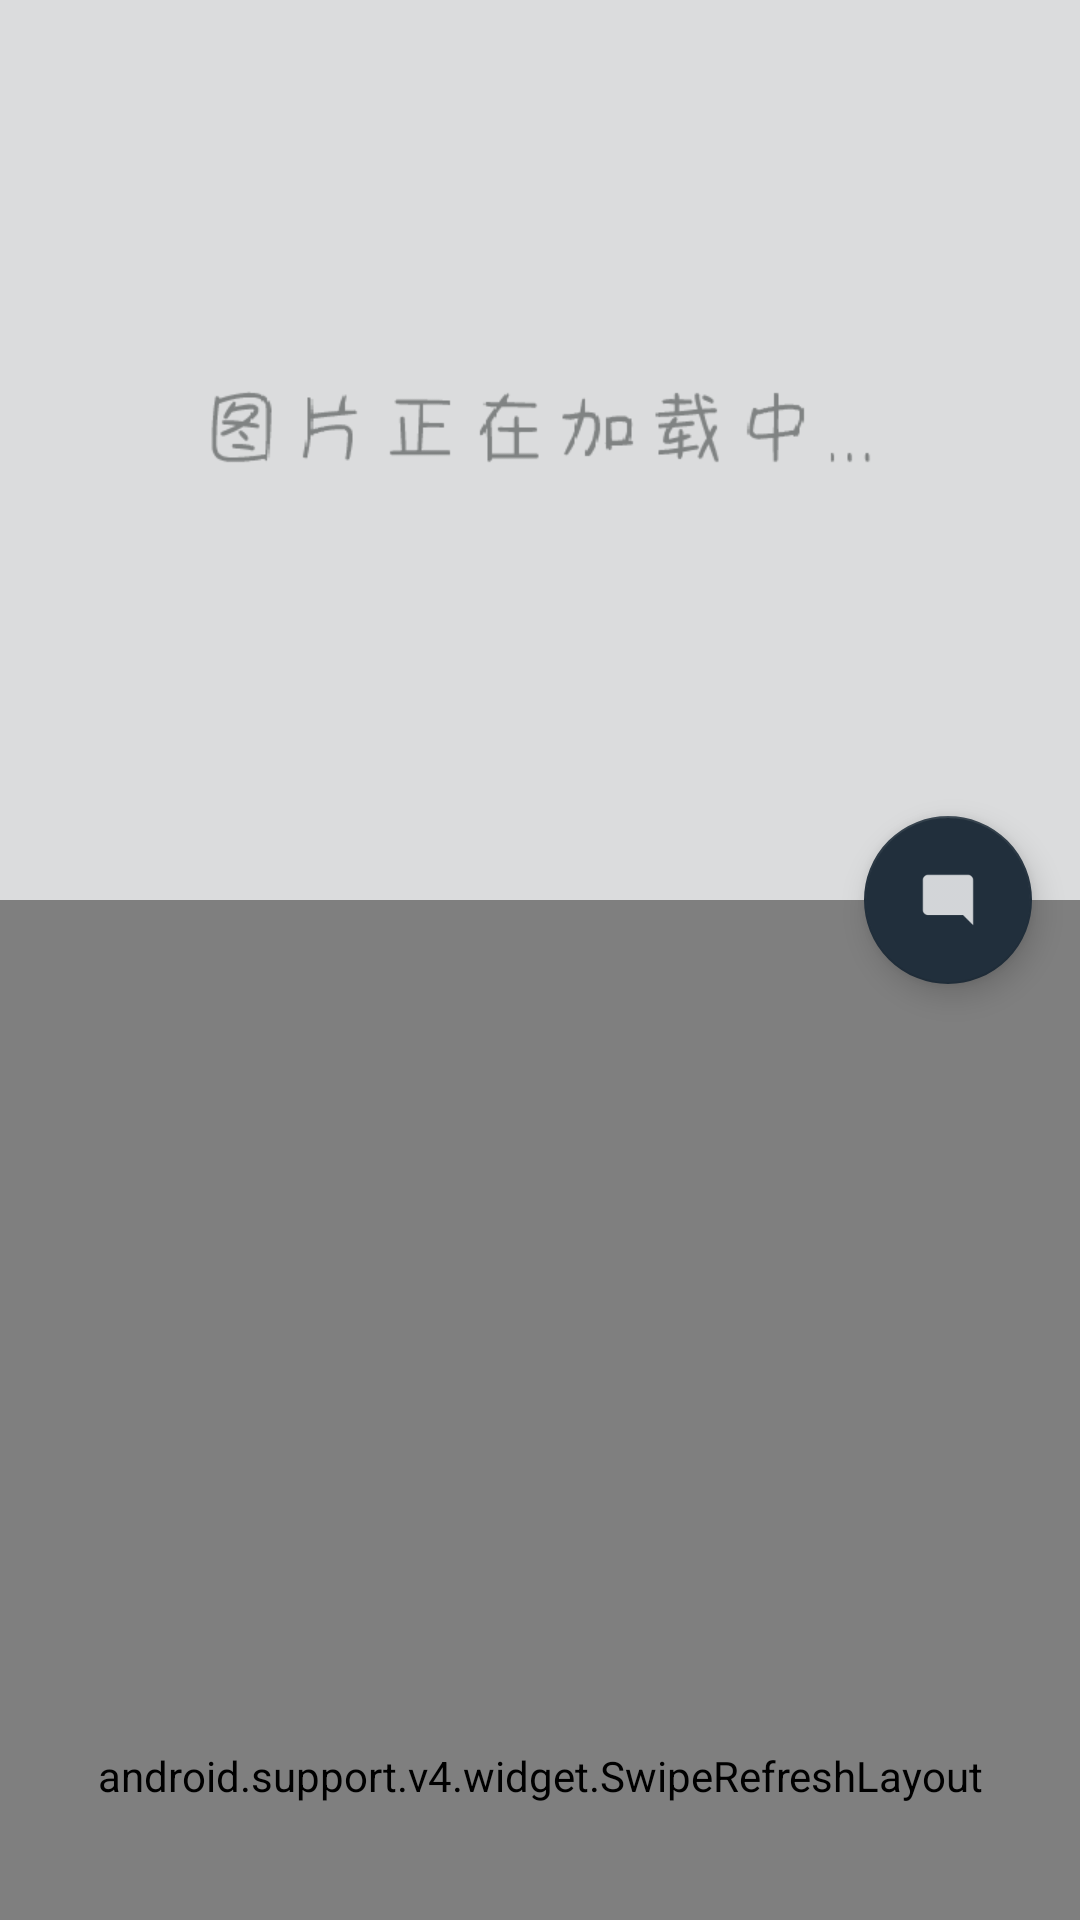

Point at icon controls on the screen. Image size 1080×1920, points as [x,y].
comment: [948,900]
